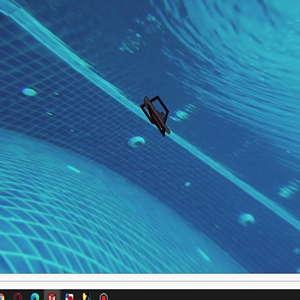submarine: (144, 95, 169, 135)
